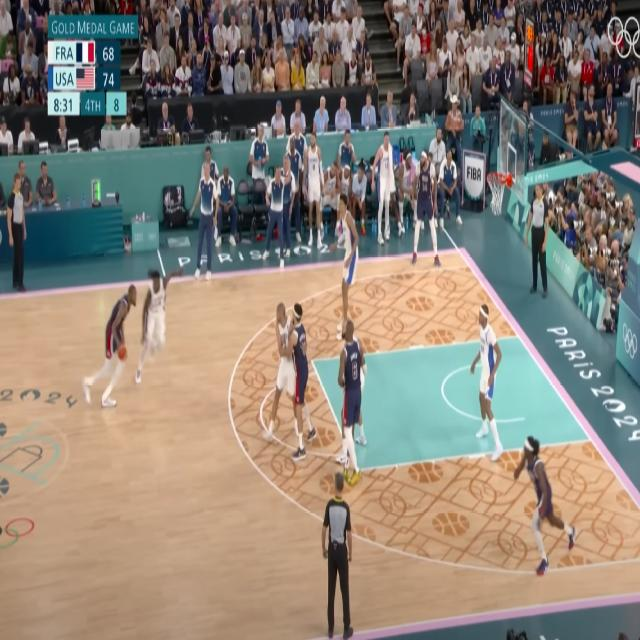basketball: (117, 345, 127, 360)
hoop: (606, 15, 640, 59), (484, 172, 510, 220)
